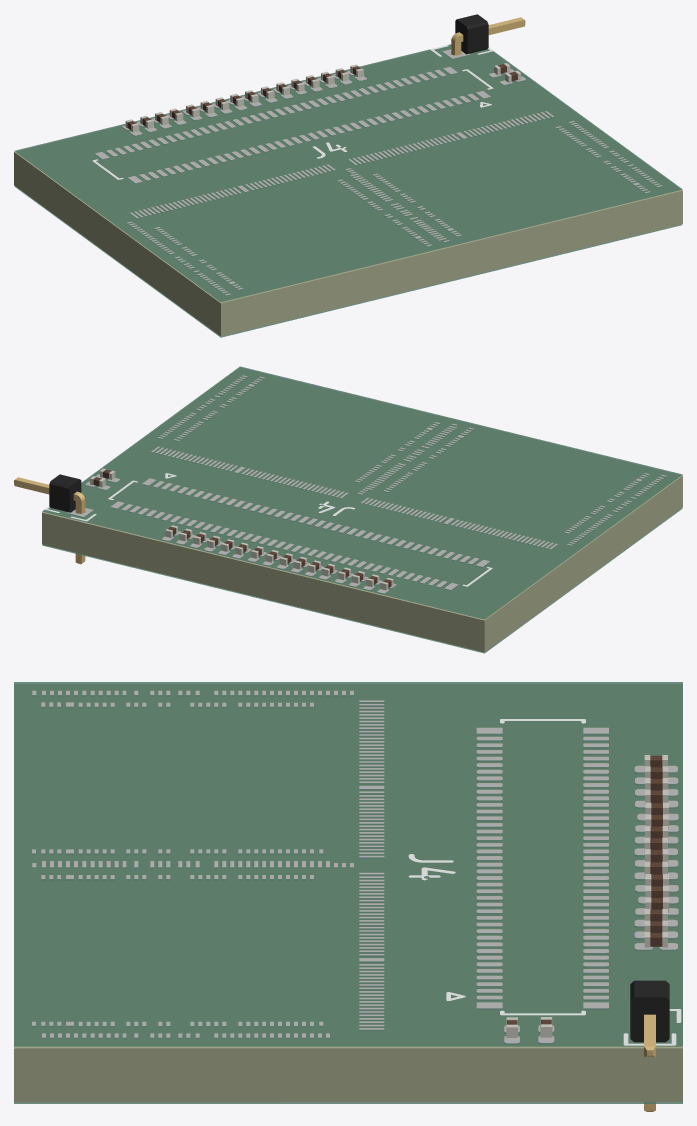
The model's file is ASIC_Board_PCB5.glb.
3 views of the same model, one above another, from view 1: azimuth 30°, elevation 25°; view 2: azimuth 150°, elevation 25°; view 3: azimuth 270°, elevation 25° (orthographic). The views are drawn at different scales.
Parts seen in each view (by area): view 1: =>[0:1:1:11], =>[0:1:1:9], =>[0:1:1:6], =>[0:1:1:5], =>[0:1:1:10], =>[0:1:1:7]; view 2: =>[0:1:1:11], =>[0:1:1:9], =>[0:1:1:6], =>[0:1:1:5], =>[0:1:1:10], =>[0:1:1:7]; view 3: =>[0:1:1:11], =>[0:1:1:9], =>[0:1:1:6], =>[0:1:1:5], =>[0:1:1:10], =>[0:1:1:7].
Boxes of the visible parts, <box> form: =>[0:1:1:11]: <box>14,46,682,336</box>; =>[0:1:1:9]: <box>14,44,682,301</box>; =>[0:1:1:6]: <box>95,49,662,295</box>; =>[0:1:1:5]: <box>451,14,525,55</box>; =>[0:1:1:10]: <box>14,186,682,337</box>; =>[0:1:1:7]: <box>92,45,493,179</box>; =>[0:1:1:11]: <box>42,368,682,652</box>; =>[0:1:1:9]: <box>42,366,682,619</box>; =>[0:1:1:6]: <box>67,375,666,593</box>; =>[0:1:1:5]: <box>14,474,85,564</box>; =>[0:1:1:10]: <box>42,508,682,653</box>; =>[0:1:1:7]: <box>44,473,492,586</box>; =>[0:1:1:11]: <box>14,684,682,1102</box>; =>[0:1:1:9]: <box>14,682,682,1046</box>; =>[0:1:1:6]: <box>32,691,678,1044</box>; =>[0:1:1:5]: <box>630,980,669,1111</box>; =>[0:1:1:10]: <box>14,1102,682,1103</box>; =>[0:1:1:7]: <box>408,719,681,1045</box>.
Bounding box in the file's own units: 0.0238 × 0.00377 × 0.017.
